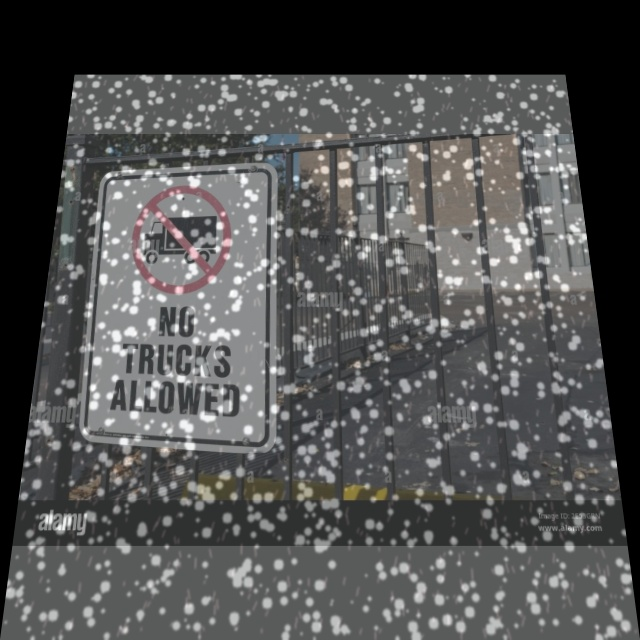Truck_Prohibited: (119, 177, 238, 303)
